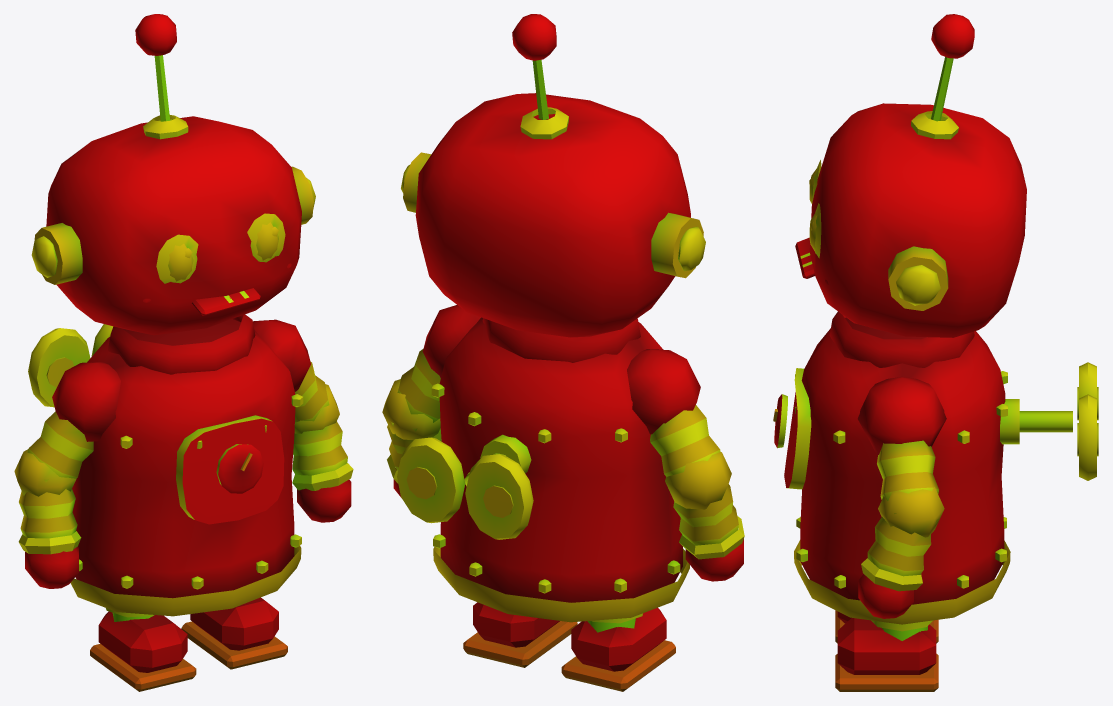
File: RobotWorker.glb
The picture shows the model from 3 angles, left to right: view 1: azimuth 30°, elevation 25°; view 2: azimuth 150°, elevation 25°; view 3: azimuth 270°, elevation 25°; orthographic projection. The views are drawn at different scales.
Visible parts, largest first — view 1: RobotWorker; view 2: RobotWorker; view 3: RobotWorker.
Part boxes in pixels (left/top/right/bottom): RobotWorker: left=14, top=14, right=353, bottom=691; RobotWorker: left=382, top=14, right=744, bottom=691; RobotWorker: left=773, top=14, right=1098, bottom=691.
Bounding box in the file's own units: 0.5134 × 0.93 × 0.4288.
